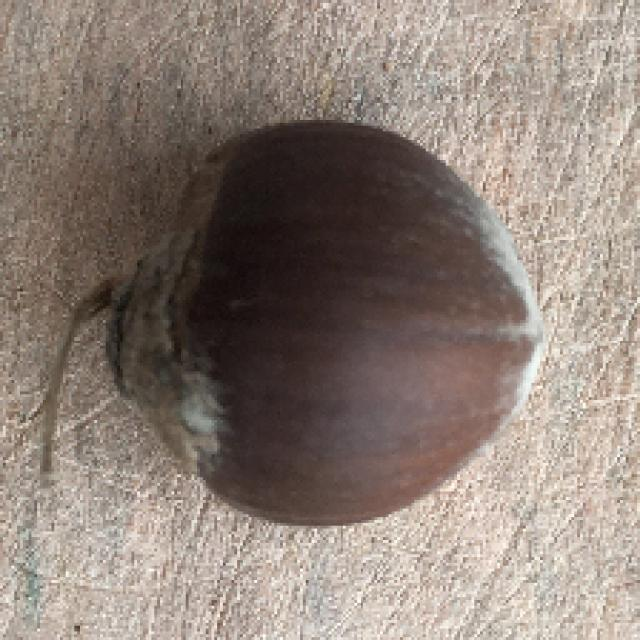damagedHazelnut: (111, 117, 551, 526)
